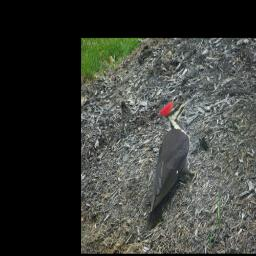Woodpecker: (142, 94, 200, 230)
